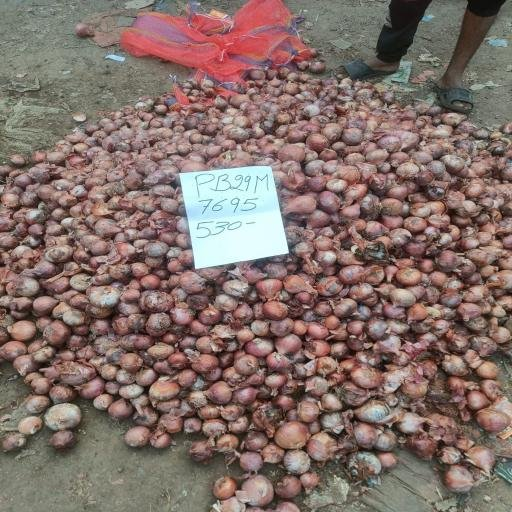damaged: (248, 476, 270, 504), (155, 383, 175, 398), (288, 455, 306, 466), (50, 249, 66, 259)
healthy: (483, 367, 504, 399), (48, 409, 76, 425), (355, 368, 378, 386), (280, 429, 305, 445), (238, 356, 258, 374), (265, 302, 286, 318), (281, 478, 298, 496), (214, 381, 228, 401), (277, 337, 298, 350), (291, 200, 313, 212), (344, 269, 362, 283), (394, 293, 414, 305), (217, 480, 231, 497), (145, 244, 164, 256), (262, 283, 278, 297), (442, 253, 454, 271), (284, 148, 302, 160), (405, 269, 419, 284), (301, 405, 314, 421), (304, 474, 316, 491), (121, 358, 138, 370), (128, 432, 144, 444), (112, 404, 128, 416), (156, 432, 168, 447), (36, 300, 54, 310), (91, 244, 109, 253), (29, 211, 46, 220), (266, 378, 284, 386), (470, 394, 482, 406), (310, 327, 326, 335), (330, 181, 344, 190)
rotten: (364, 237, 389, 266), (478, 412, 508, 436), (320, 438, 342, 462), (352, 457, 376, 477), (92, 334, 116, 354), (113, 135, 142, 151), (412, 434, 433, 456), (359, 408, 390, 422), (57, 367, 91, 379), (261, 404, 278, 427), (338, 386, 362, 402), (418, 236, 438, 255), (448, 470, 466, 490), (406, 380, 424, 400), (150, 294, 168, 312), (475, 338, 493, 354), (188, 294, 207, 309), (192, 446, 209, 462), (89, 320, 108, 334), (30, 211, 47, 225), (366, 199, 380, 214), (105, 186, 126, 196), (156, 215, 172, 228), (154, 317, 167, 332), (470, 319, 485, 332), (380, 433, 392, 449), (96, 160, 120, 168), (370, 324, 387, 335), (453, 338, 464, 352), (32, 172, 50, 180), (132, 318, 142, 331), (394, 233, 408, 242), (414, 326, 431, 330)
